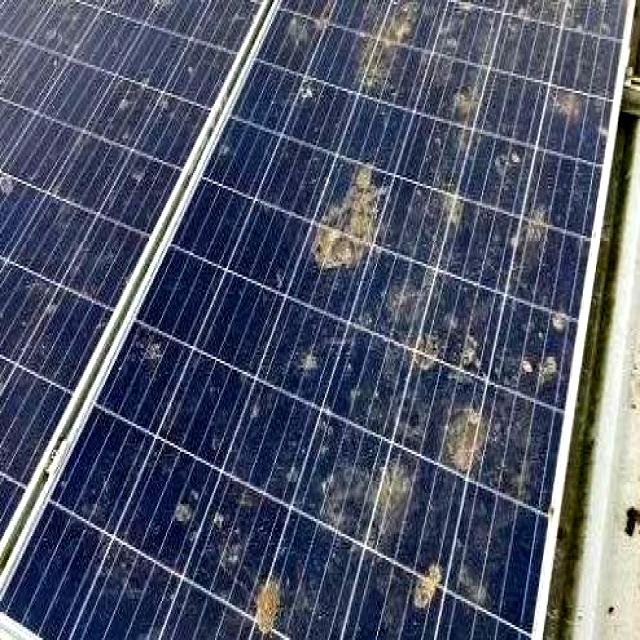bird: (309, 149, 397, 283), (323, 436, 410, 540), (354, 0, 424, 113), (514, 297, 566, 414), (446, 389, 504, 488), (235, 555, 302, 636), (434, 164, 474, 258), (398, 555, 452, 618), (171, 485, 226, 545), (546, 65, 605, 117), (448, 68, 493, 132), (112, 59, 156, 118), (518, 190, 554, 257), (136, 332, 178, 382), (290, 58, 323, 119), (404, 320, 440, 368)
